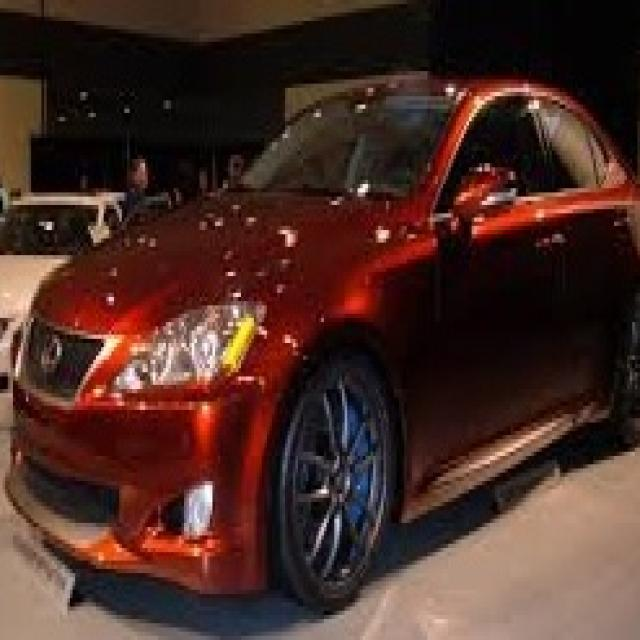maroon: (15, 80, 640, 595)
